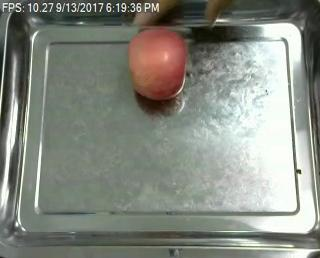apple: (127, 28, 190, 99)
